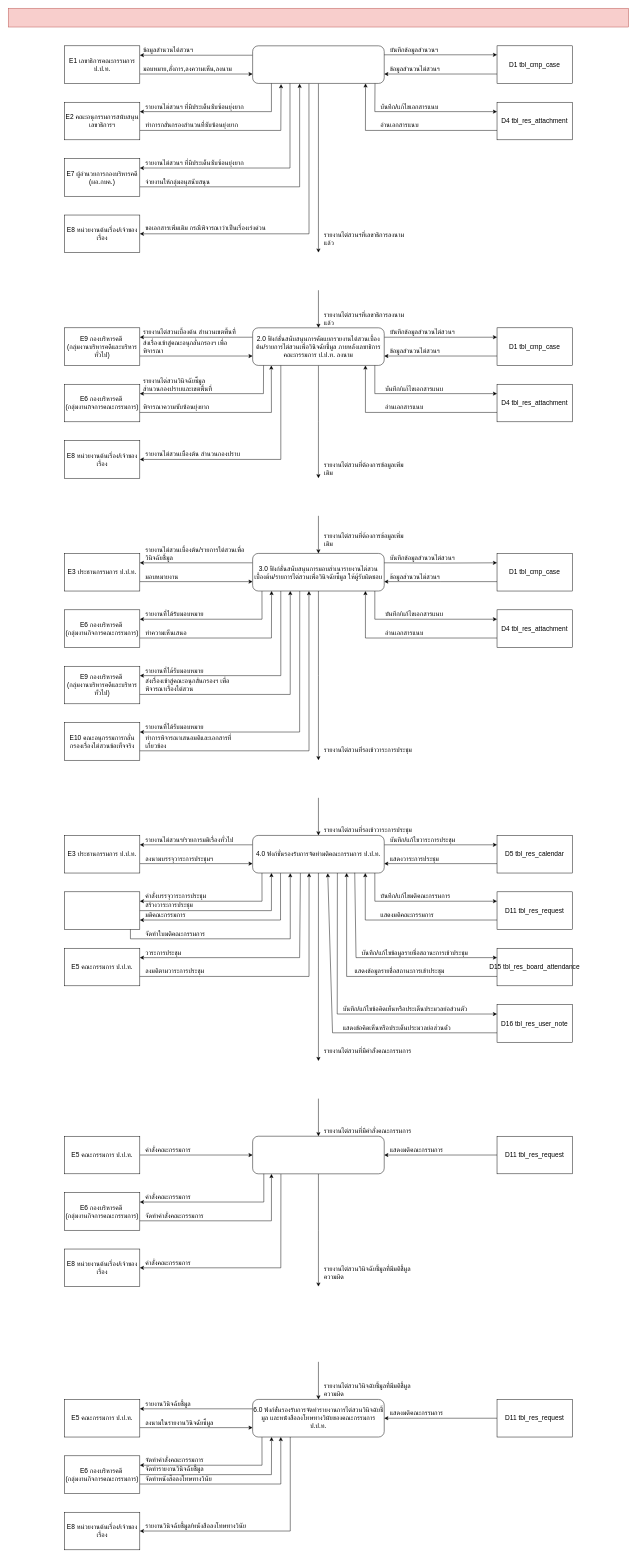
The diagram is 637 pixels wide and 1558 high, and some of its shapes have lost their labels. The shapes that lost their labels are listed below. From the top down, each one's box as (x1, y1, x2, y2) in pixels, then its label:
(8, 8, 629, 27): DFD LEVEL 1
(252, 45, 384, 83): 1.0 ฟังก์ชั่นสนับสนุนการจัดทำสารบบคดี และจัดเก็บไฟล์อิเล็กทรอนิกส์
(64, 891, 140, 929): E4 กองบริหารคดี ( กลุ่มงานคำวินิจฉัยและมติคณะกรรมการ)
(252, 1136, 384, 1174): 5.0 ฟังก์ชั่นรองรับการจัดทำคำสั่งคณะกรรมการ ป.ป.ท./คำสั่งสำนักงาน ป.ป.ท.
